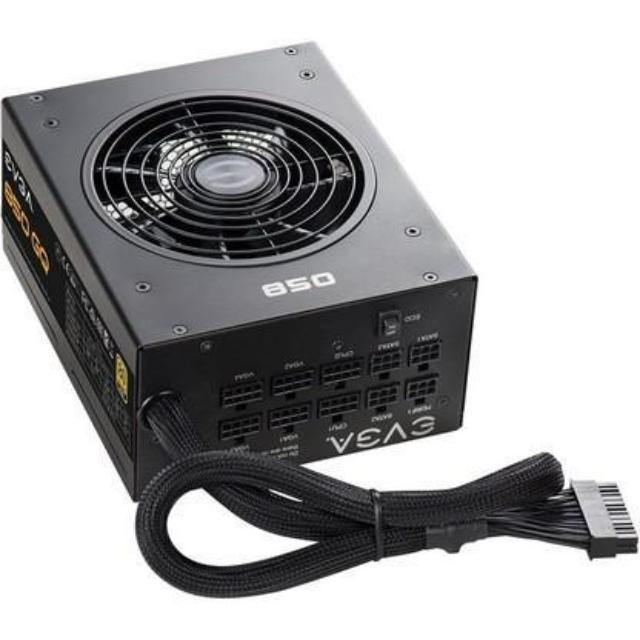PSU: (0, 32, 482, 516)
